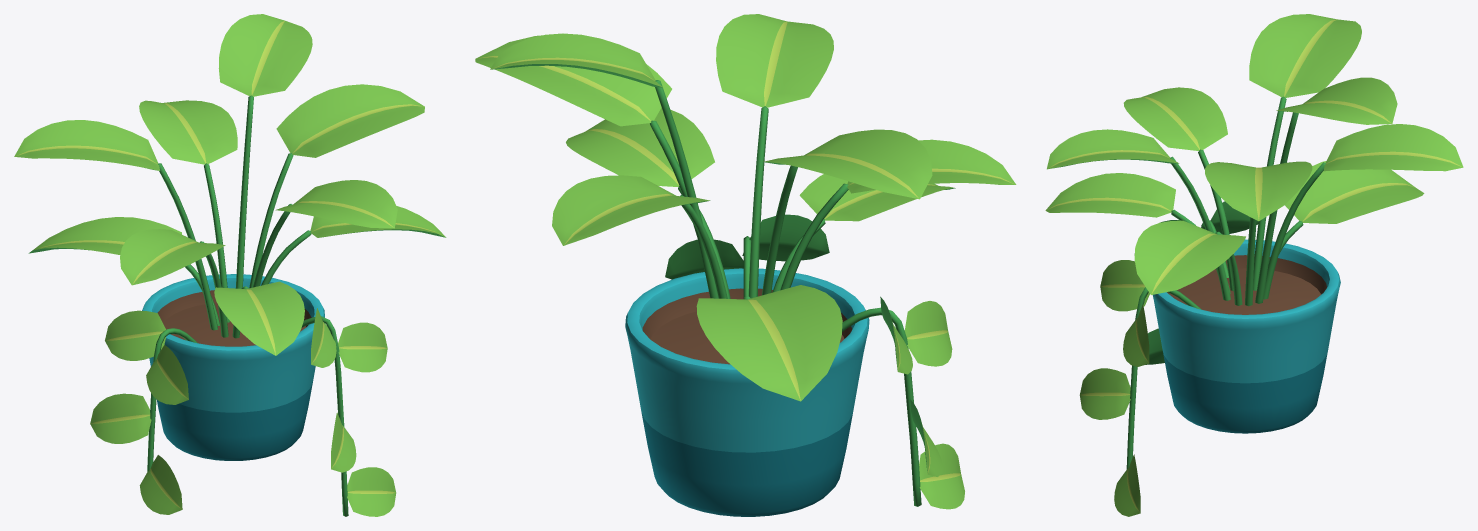
The model's file is planta_jiboia.glb.
The picture shows the model from 3 angles, left to right: view 1: azimuth 30°, elevation 25°; view 2: azimuth 150°, elevation 25°; view 3: azimuth 270°, elevation 25°; orthographic projection. The views are drawn at different scales.
Visible parts, largest first — view 1: planta_jiboia; view 2: planta_jiboia; view 3: planta_jiboia.
Part boxes in pixels (x1,y1,x2,y2): planta_jiboia: (14, 14, 446, 516); planta_jiboia: (475, 14, 1016, 516); planta_jiboia: (1045, 14, 1463, 516).
Bounding box in the file's own units: 0.4298 × 0.4451 × 0.4028.
1 material, 1 textured.
